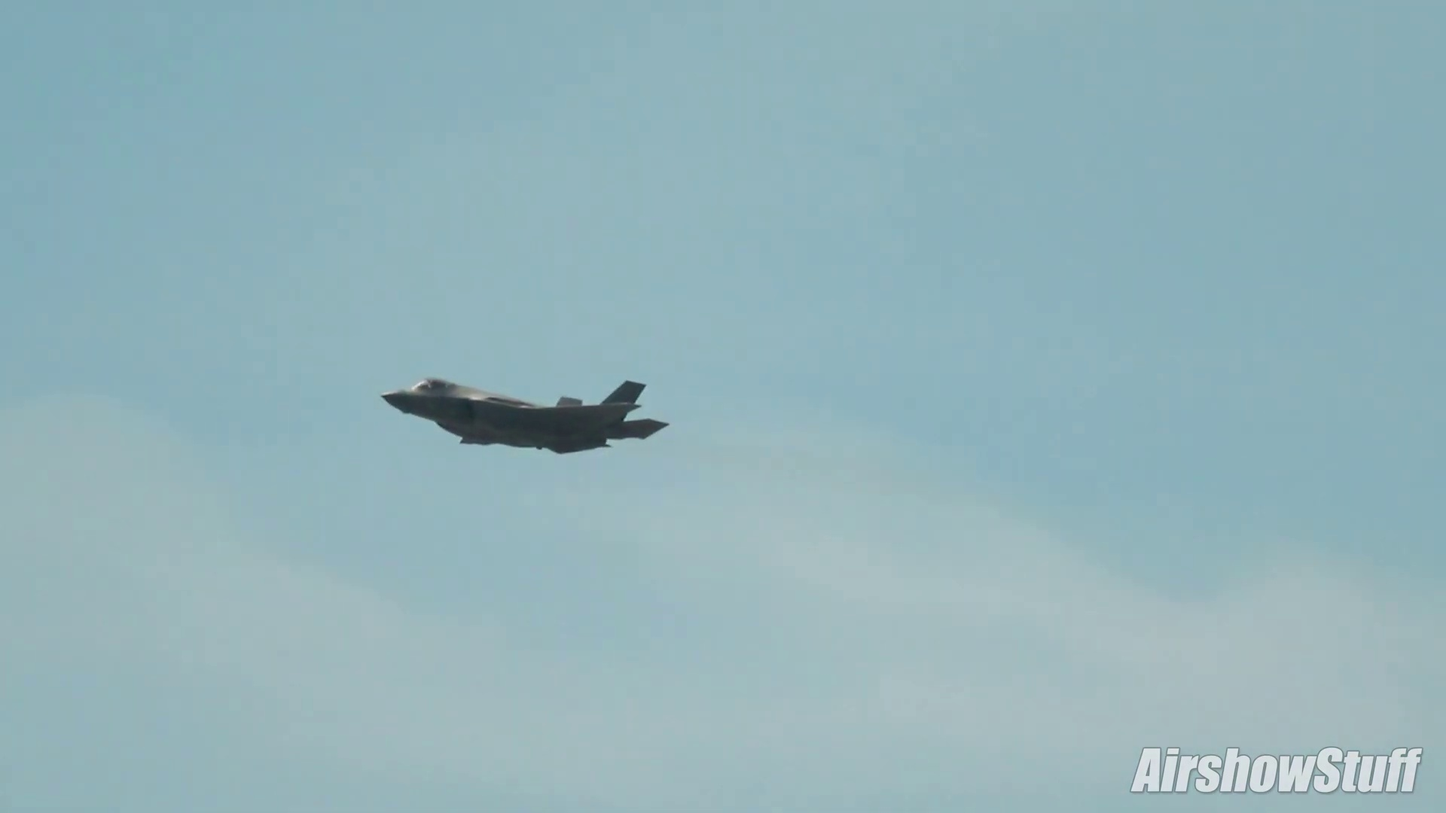F35: (368, 370, 676, 464)
